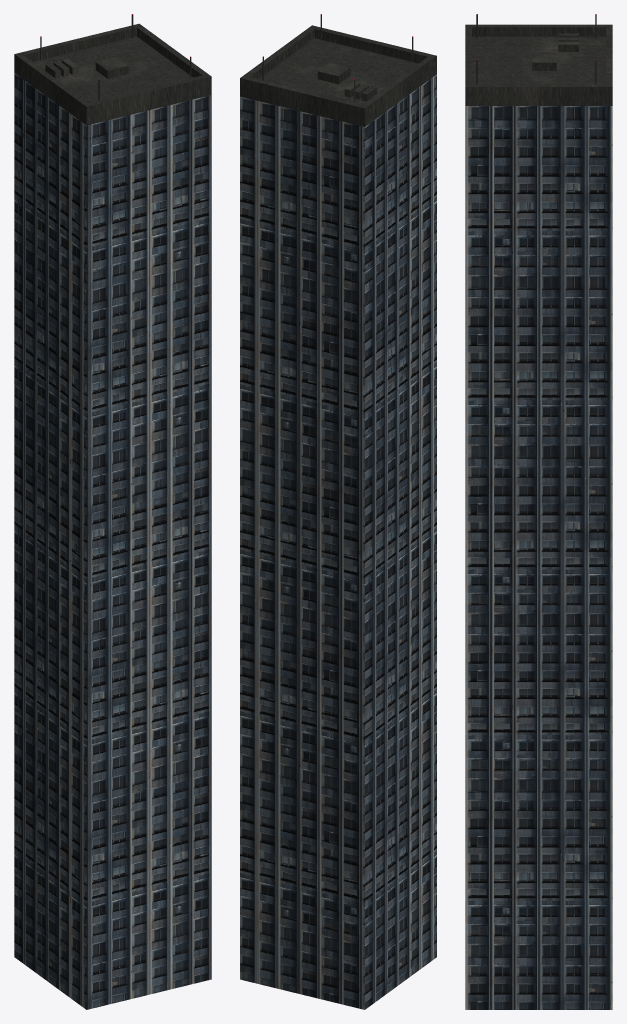
Rendered from skyscraper_dark.glb.
3 renders of one model, left to right at view 1: azimuth 30°, elevation 25°; view 2: azimuth 150°, elevation 25°; view 3: azimuth 270°, elevation 25°, orthographic. The views are drawn at different scales.
Parts seen in each view (by area): view 1: dark-skyscraper.002; view 2: dark-skyscraper.002; view 3: dark-skyscraper.002.
Boxes of the visible parts, left/top/right/bottom form: dark-skyscraper.002: left=14, top=14, right=211, bottom=1009; dark-skyscraper.002: left=240, top=14, right=436, bottom=1009; dark-skyscraper.002: left=465, top=14, right=612, bottom=1009.
Bounding box in the file's own units: 15.94 × 112 × 15.94.
Materials: 3 (2 with a texture image).
